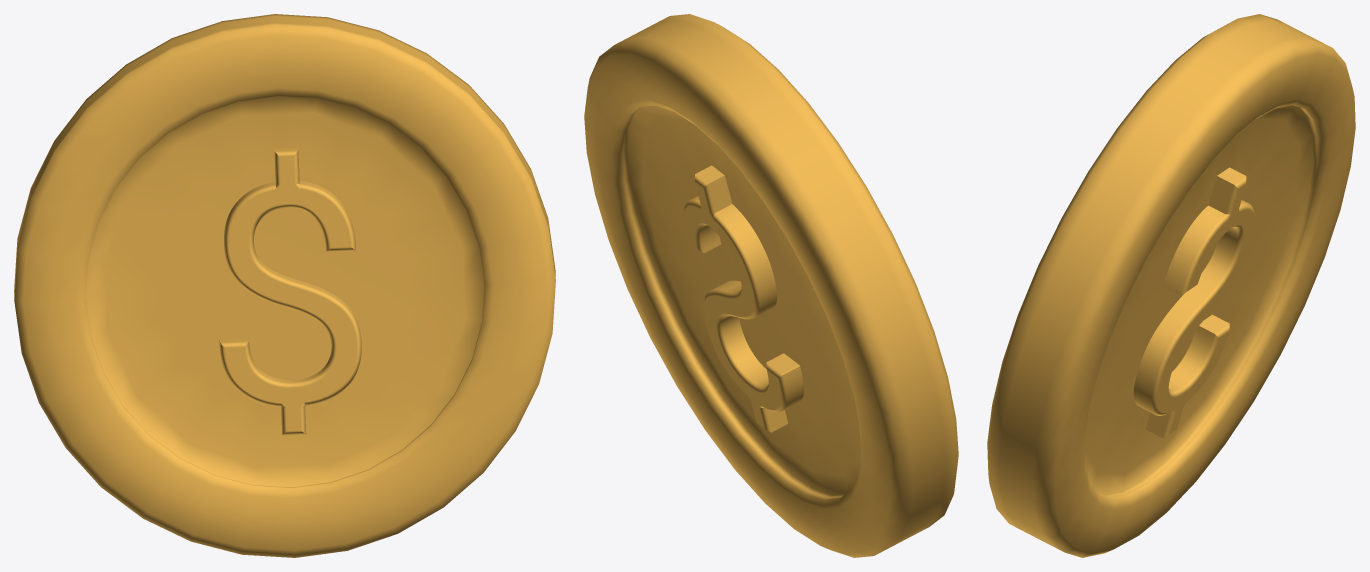
File: coin.gltf
The picture shows the model from 3 angles, left to right: view 1: azimuth 30°, elevation 25°; view 2: azimuth 150°, elevation 25°; view 3: azimuth 270°, elevation 25°; orthographic projection. The views are drawn at different scales.
Parts seen in each view (by area): view 1: Cylinder, $; view 2: Cylinder, $; view 3: Cylinder, $.
Boxes of the visible parts, bbox=[...] form: Cylinder: bbox=[14, 14, 555, 557]; $: bbox=[219, 148, 361, 435]; Cylinder: bbox=[584, 14, 958, 557]; $: bbox=[683, 165, 803, 432]; Cylinder: bbox=[987, 14, 1355, 557]; $: bbox=[1133, 167, 1255, 438].
Size of the model in its own units: 0.5687 by 0.609 by 0.394.
